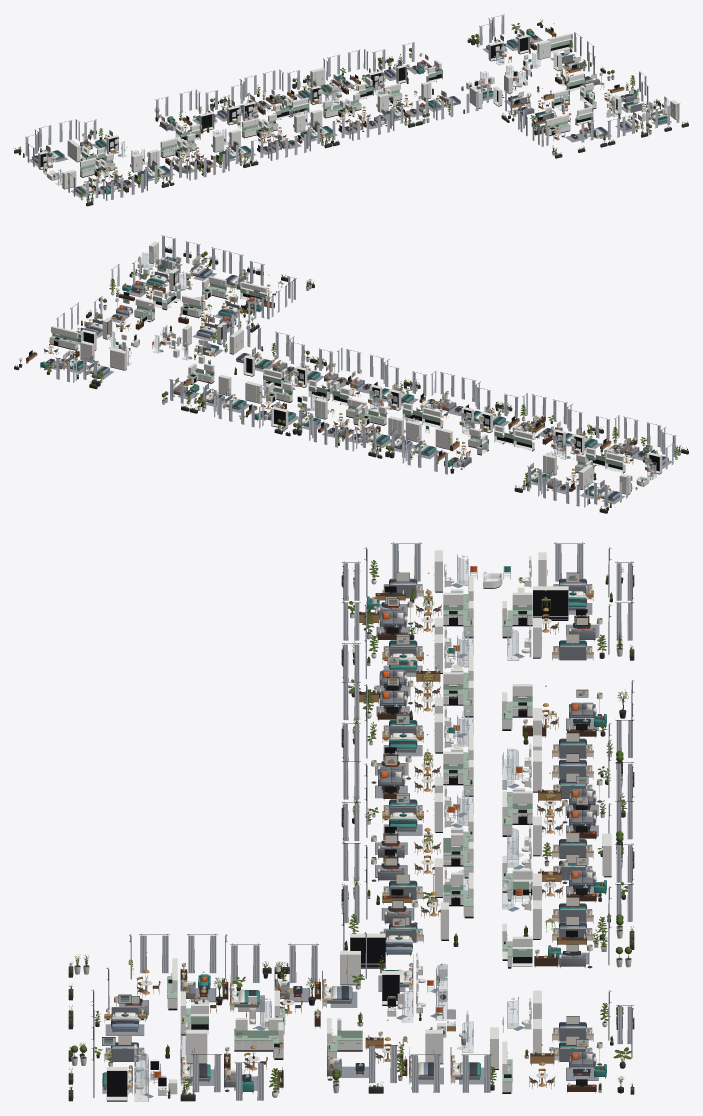
3 views of the same model, one above another, from view 1: azimuth 30°, elevation 25°; view 2: azimuth 150°, elevation 25°; view 3: azimuth 270°, elevation 25° (orthographic). The views are drawn at different scales.
Parts seen in each view (by area): view 1: in_L10_u177_furn_kitchen_run1__int_white_gloss, in_L10_u174_furn_kitchen_run1__int_white_gloss; view 2: in_L10_u174_furn_kitchen_run1__int_white_gloss; view 3: in_L10_u176_furn_kitchen_run1__int_white_gloss, in_L10_u188_furn_wardrobe1__int_white_gloss, in_L10_u180_furn_wardrobe2__int_white_gloss.
Boxes of the visible parts, x1,y1,x2,y2 form: in_L10_u177_furn_kitchen_run1__int_white_gloss: (545,114,570,136); in_L10_u174_furn_kitchen_run1__int_white_gloss: (548,33,572,53); in_L10_u174_furn_kitchen_run1__int_white_gloss: (49,326,78,350); in_L10_u176_furn_kitchen_run1__int_white_gloss: (234,1018,283,1051); in_L10_u188_furn_wardrobe1__int_white_gloss: (533,586,568,620); in_L10_u180_furn_wardrobe2__int_white_gloss: (350,933,385,968).
Bounding box in the file's own units: 82.66 × 3 × 37.92.
